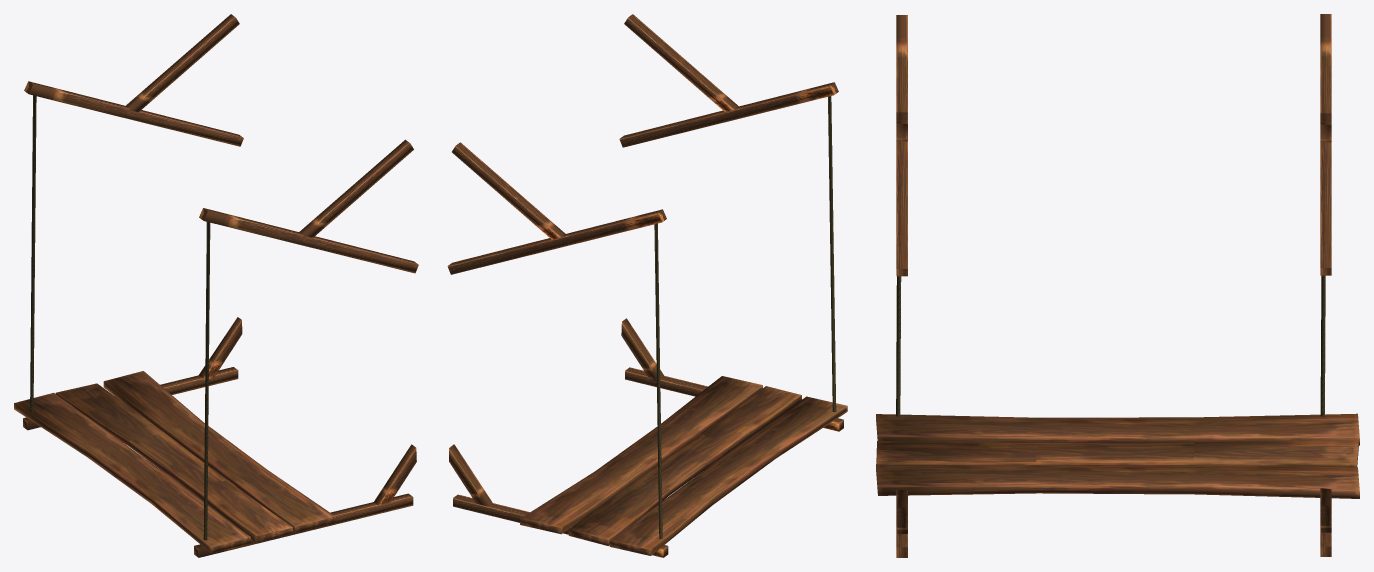
Rendered from INST_SWORDLIGHT_WALLPLATB.obj.
3 renders of one model, left to right at view 1: azimuth 30°, elevation 25°; view 2: azimuth 150°, elevation 25°; view 3: azimuth 270°, elevation 25°, orthographic. The views are drawn at different scales.
Visible parts, largest first — view 1: llPlatB_Lod1_01; view 2: llPlatB_Lod1_01; view 3: llPlatB_Lod1_01.
Part boxes in pixels (x1,y1,x2,y2): llPlatB_Lod1_01: [14, 14, 418, 557]; llPlatB_Lod1_01: [447, 14, 847, 557]; llPlatB_Lod1_01: [876, 14, 1359, 557].
Bounding box in the file's own units: 314 × 496 × 490.
